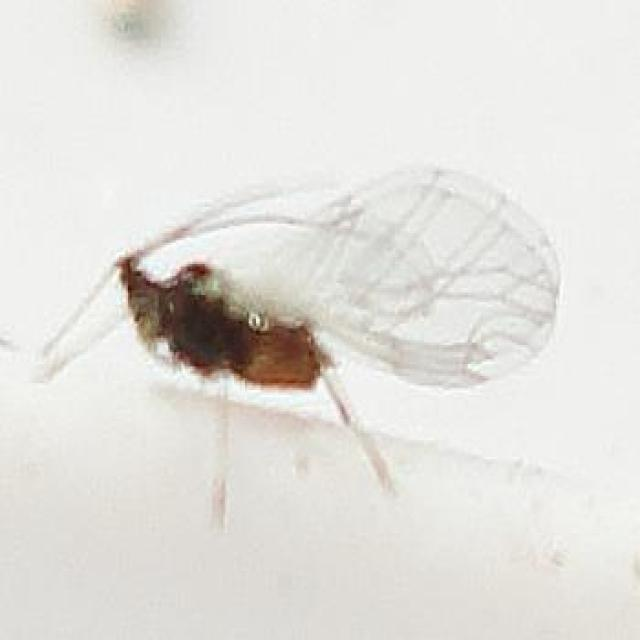Aphids: (36, 144, 568, 529)
